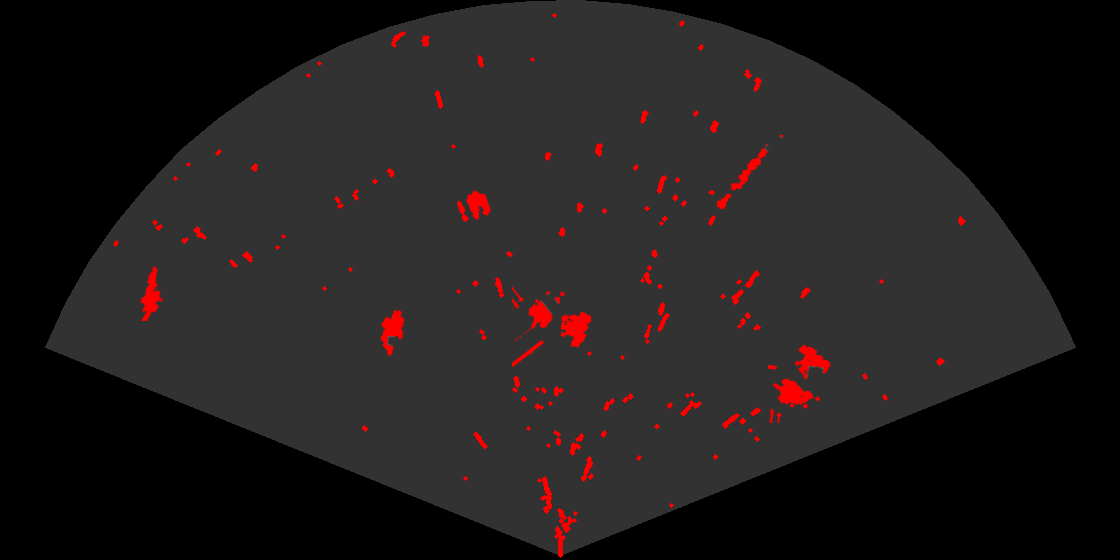AUV: (379, 308, 406, 358)
ball: (455, 189, 492, 224)
cage: (512, 285, 593, 369), (768, 343, 832, 423)
chain: (715, 133, 785, 211)
frogman: (139, 265, 165, 321)
